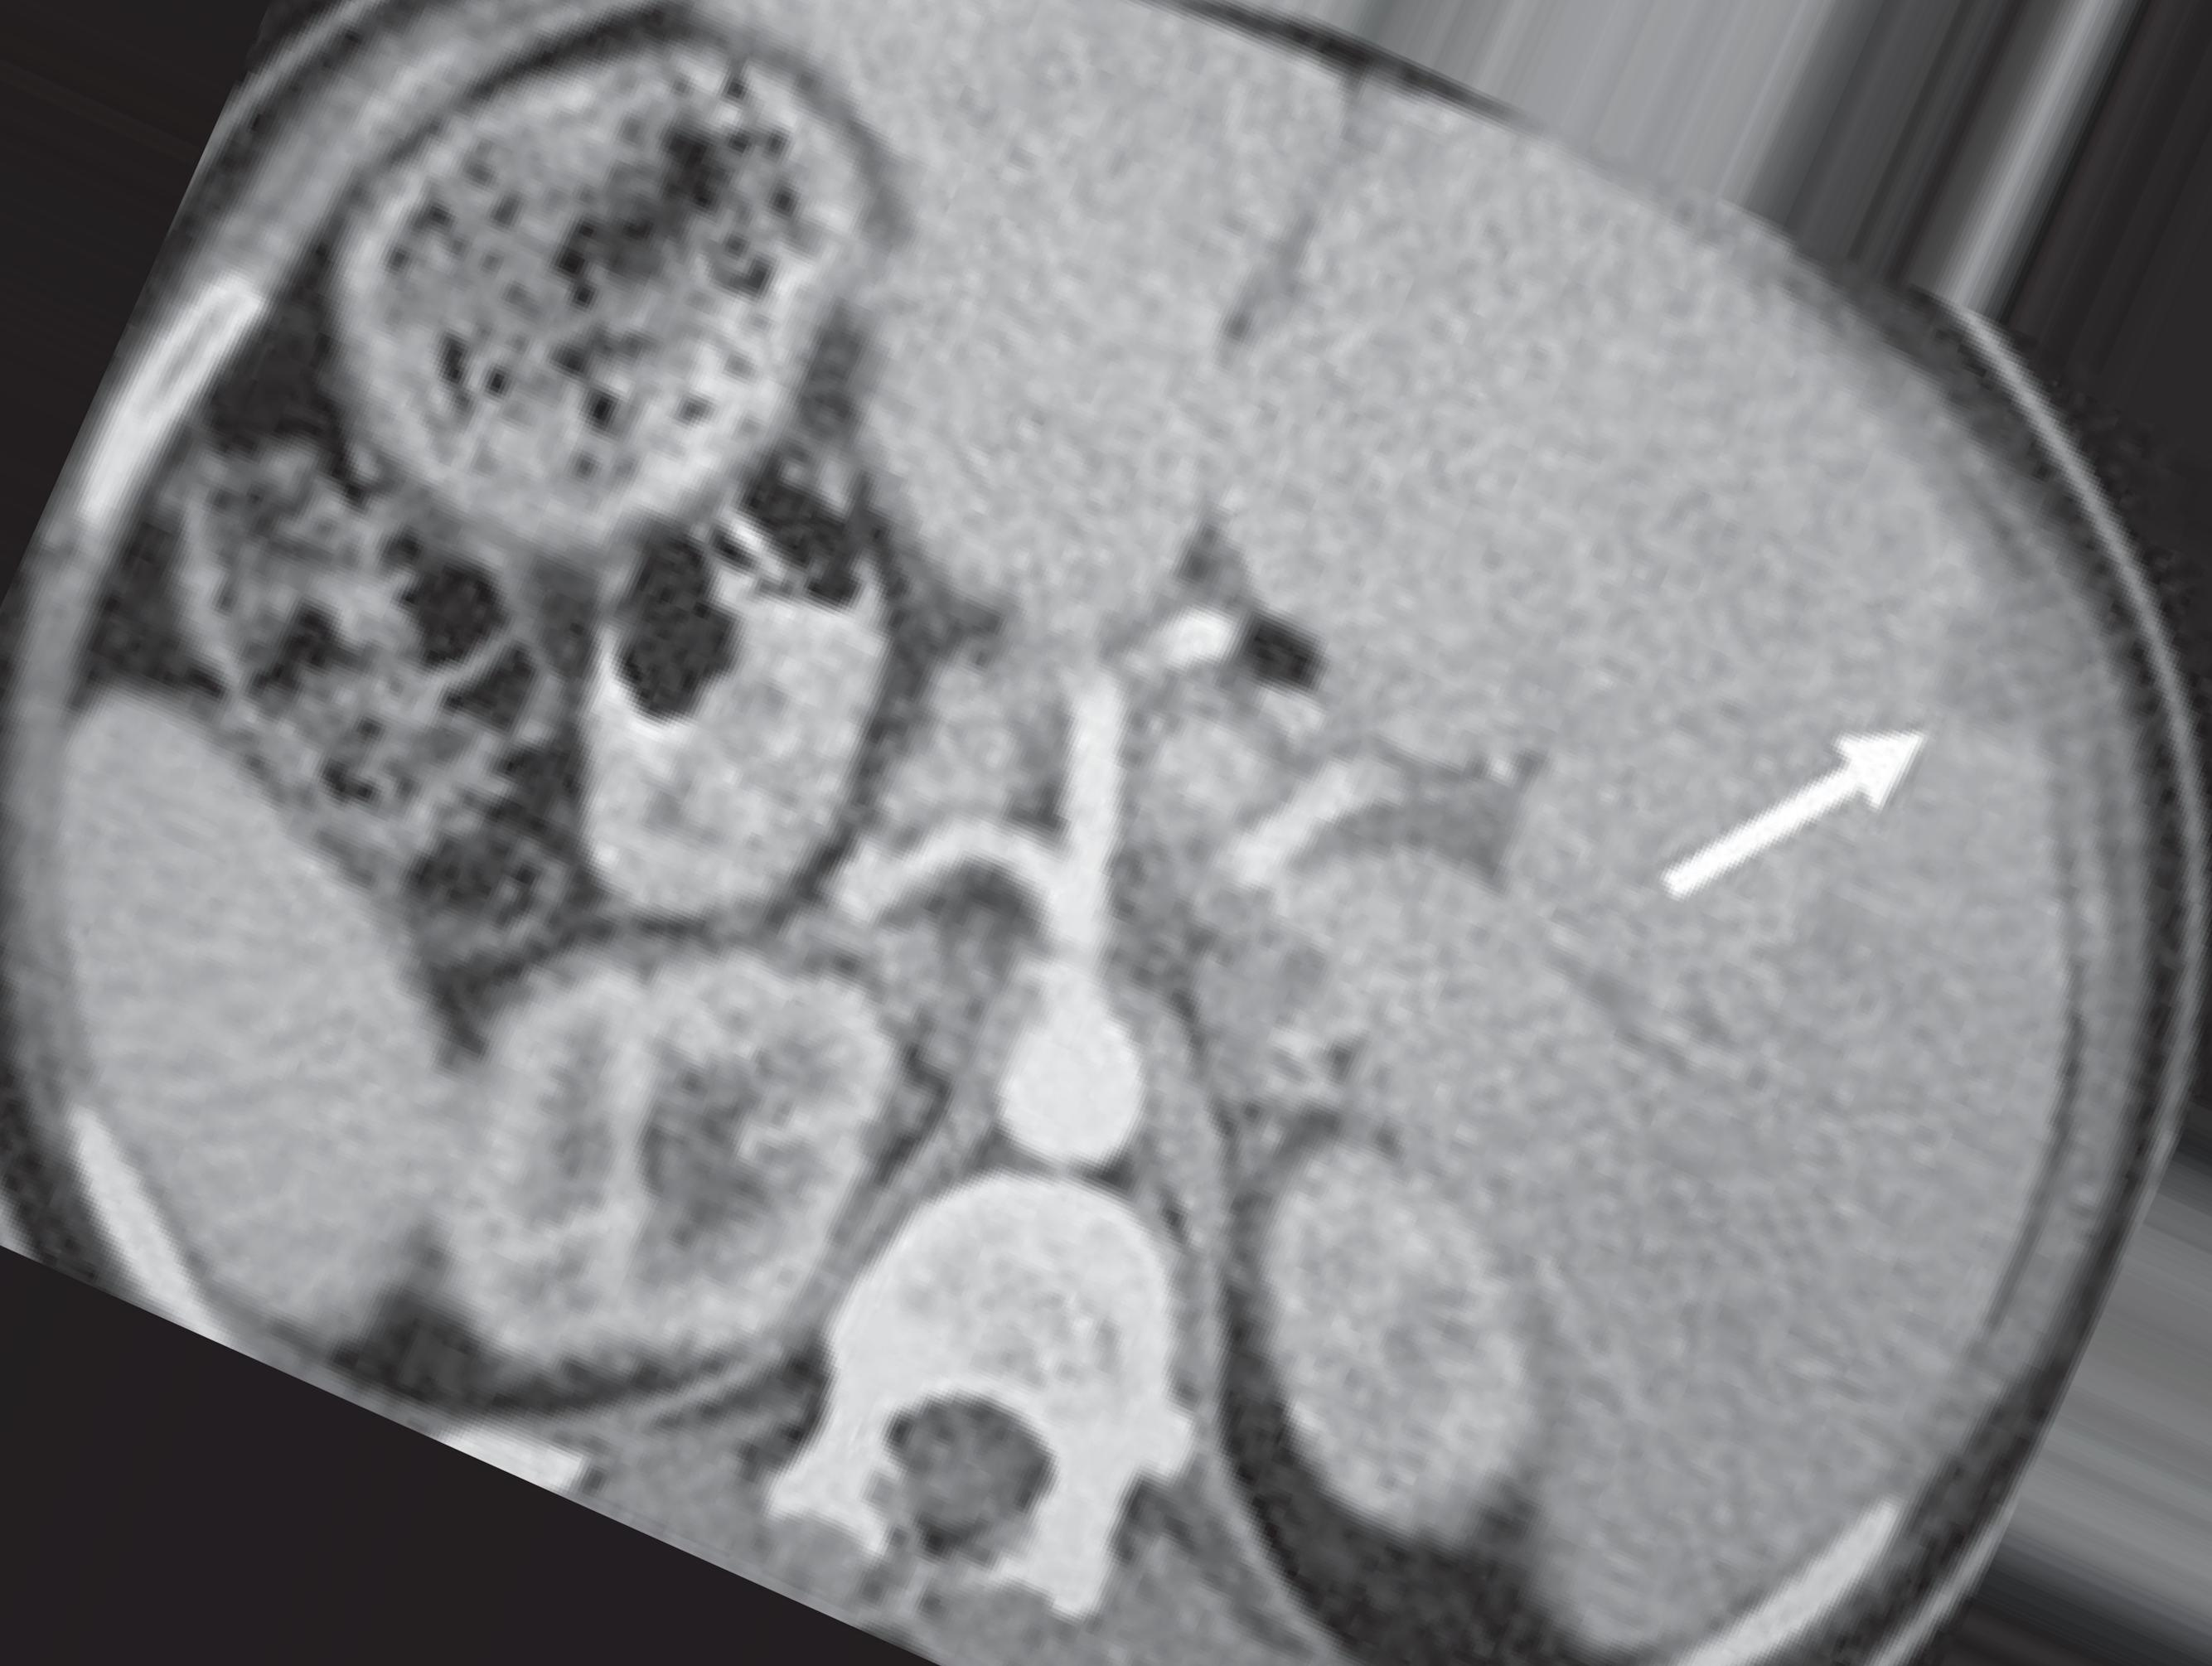anomaly: (1941, 609, 2086, 744)
